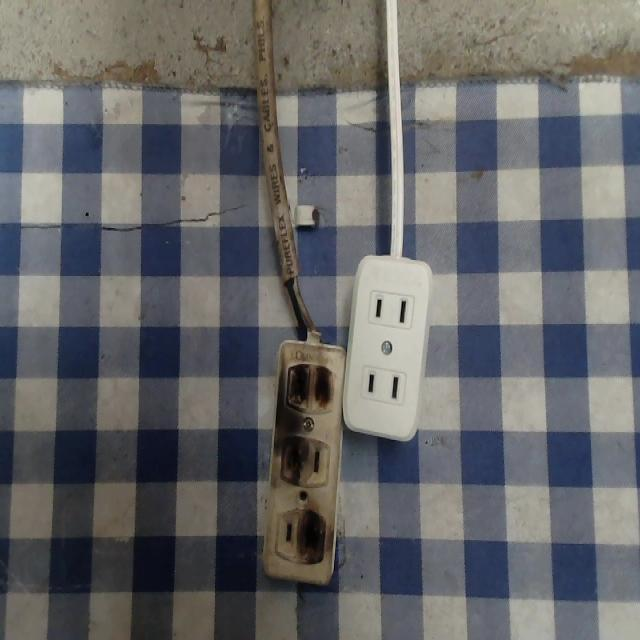-: (282, 360, 336, 411), (295, 508, 333, 571), (270, 435, 306, 485)
